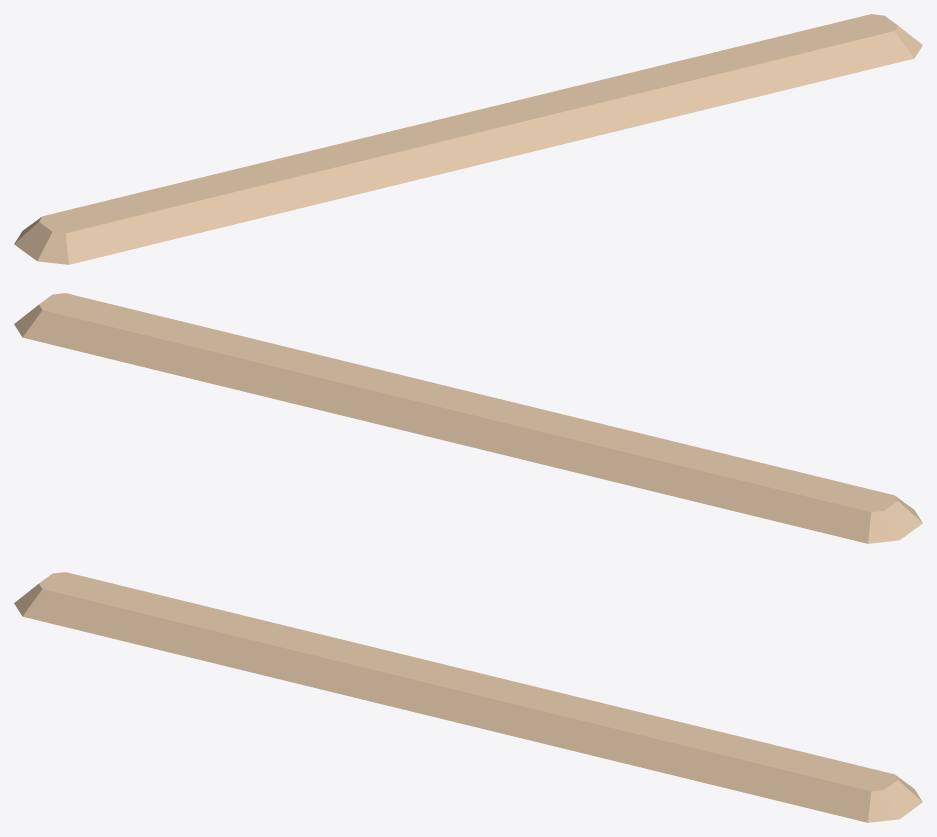
The model's file is Puzzle_Closed_Conduit_Straight.fbx.
The picture shows the model from 3 angles, top to bottom: view 1: azimuth 30°, elevation 25°; view 2: azimuth 150°, elevation 25°; view 3: azimuth 330°, elevation 25°; orthographic projection.
Visible parts, largest first — view 1: object1; view 2: object1; view 3: object1.
Boxes of the visible parts, box(x1,y1,x2,y2) form: object1: box(14, 14, 922, 264); object1: box(14, 293, 922, 543); object1: box(14, 572, 922, 822).
Bounding box in the file's own units: 1.1 × 0.025 × 0.1.
